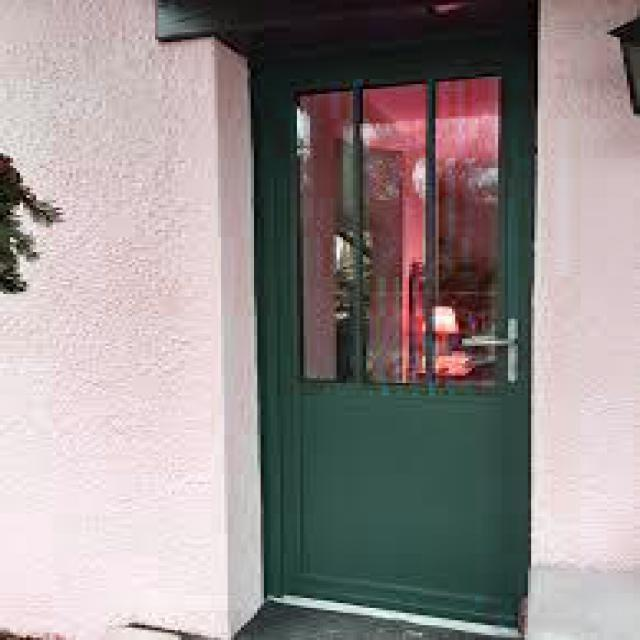door: (258, 51, 533, 626)
